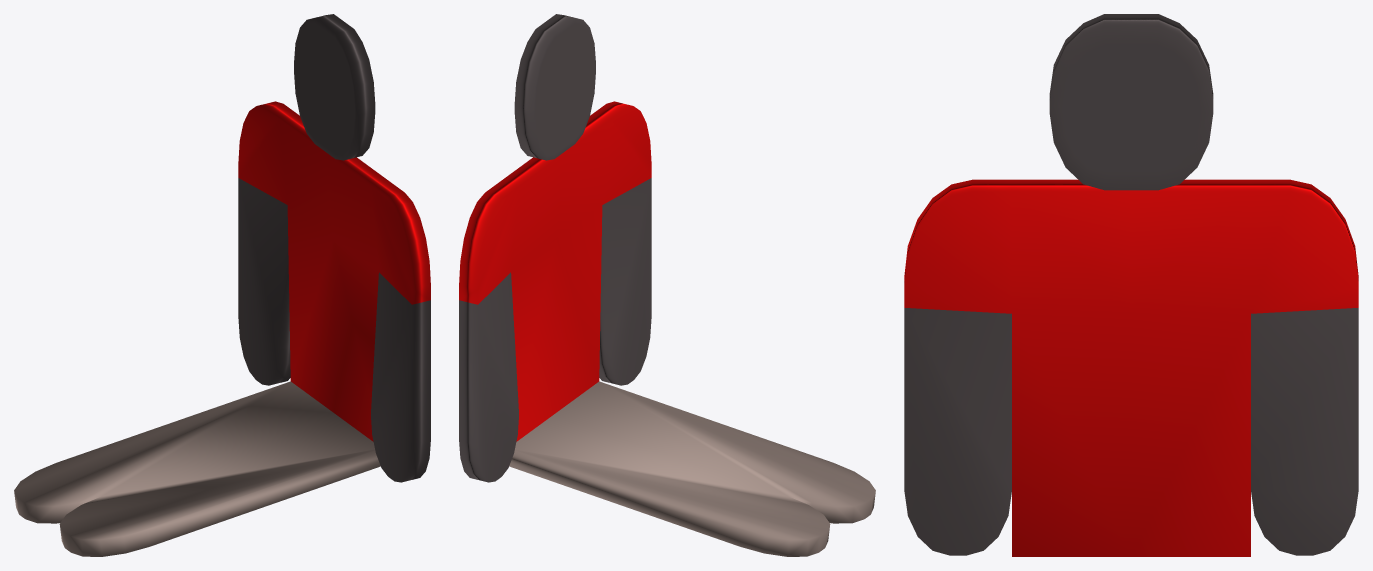
File: Glass dude.fbx
The picture shows the model from 3 angles, left to right: view 1: azimuth 30°, elevation 25°; view 2: azimuth 150°, elevation 25°; view 3: azimuth 270°, elevation 25°; orthographic projection. The views are drawn at different scales.
Visible parts, largest first — view 1: Cube.001; view 2: Cube.001; view 3: Cube.001.
Boxes of the visible parts, bbox=[...] form: Cube.001: bbox=[14, 14, 430, 556]; Cube.001: bbox=[459, 14, 875, 556]; Cube.001: bbox=[904, 14, 1358, 556].
Size of the model in its own units: 324 by 440 by 315.
